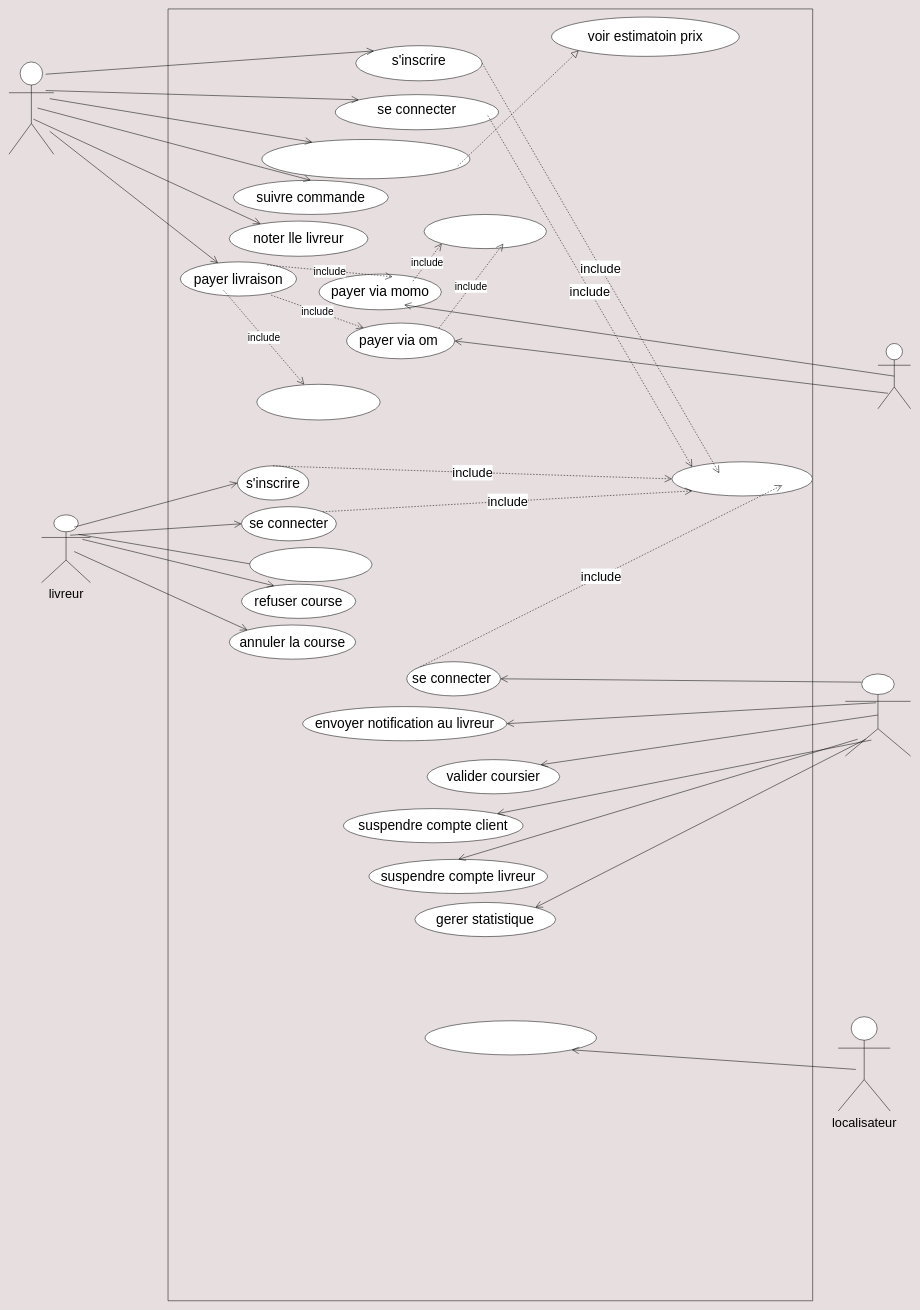
Some shapes in this 920 by 1310 pixel diagram are drawn without their labels. The shapes that lost their labels are listed below. From the top down, each one's centre as x and y in pixels, then its label:
(x=31, y=107): client
(x=365, y=159): passer une commande
(x=485, y=231): demande de validation de la commande
(x=894, y=376): api
(x=318, y=402): payer en cash
(x=742, y=478): authentification
(x=310, y=564): accepter course
(x=878, y=714): admin
(x=510, y=1037): calculer distance
